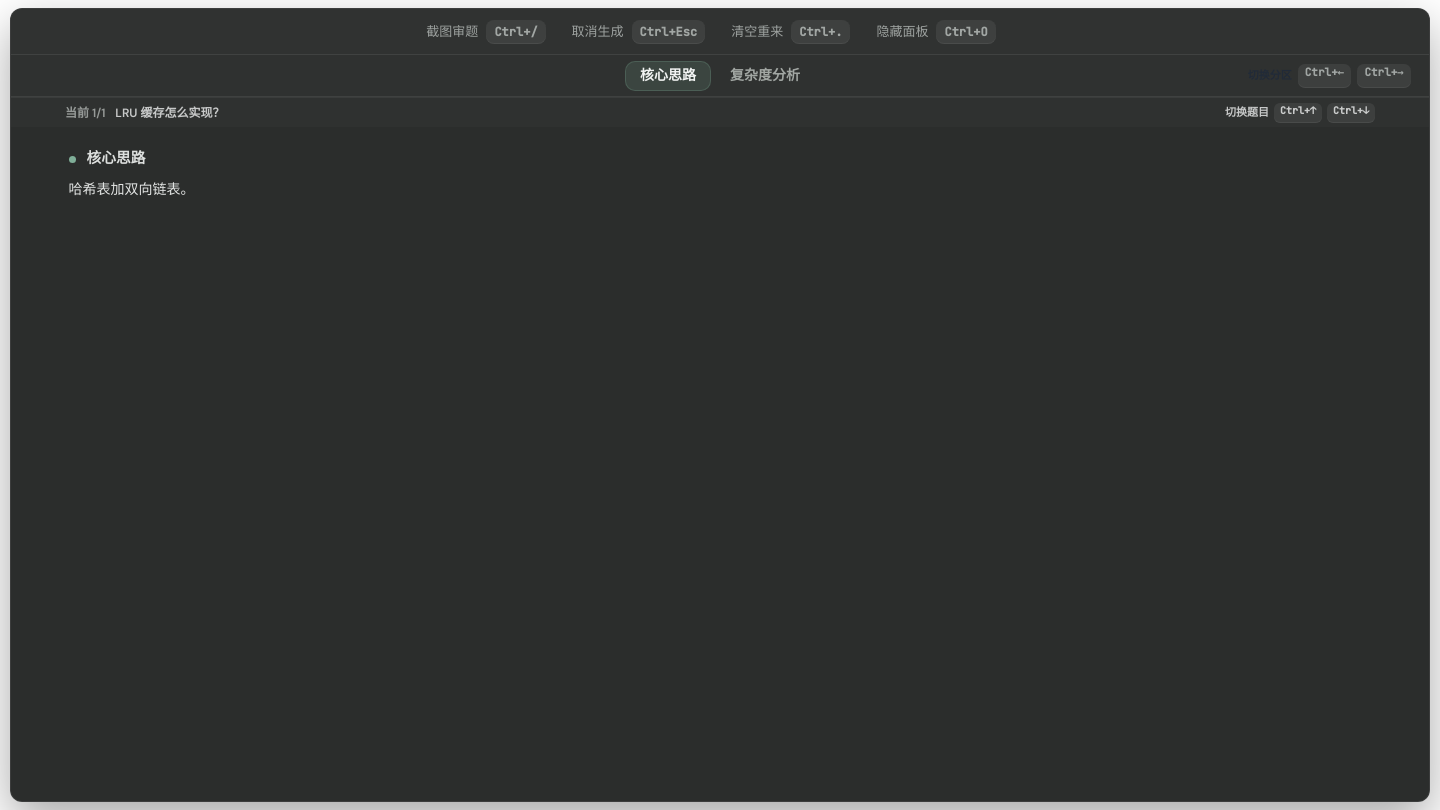
Test: InterviewOverlay › splits numbered bold model headings into focus tabs
Click the button "复杂度分析". click: (765, 76)
box: [715,60,815,90]
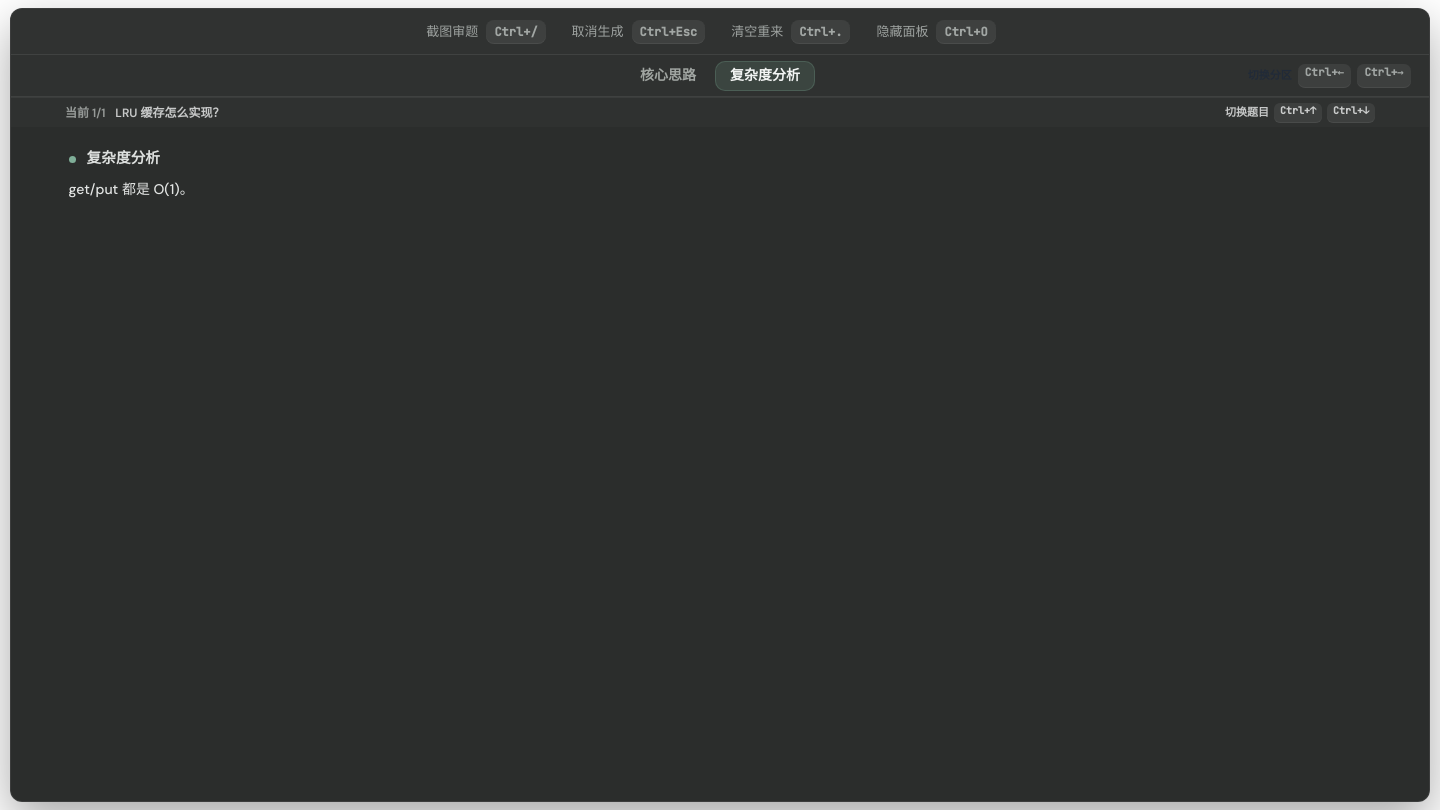
Now the heading "复杂度分析" is shown, box [87,148,160,168]
Now the text "get/put 都是 O(1)。" is shown, box [69,180,194,198]
